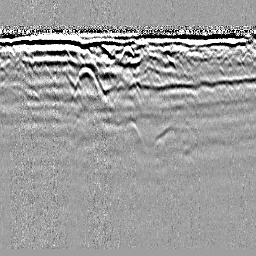cavity: (118, 44, 136, 63)
